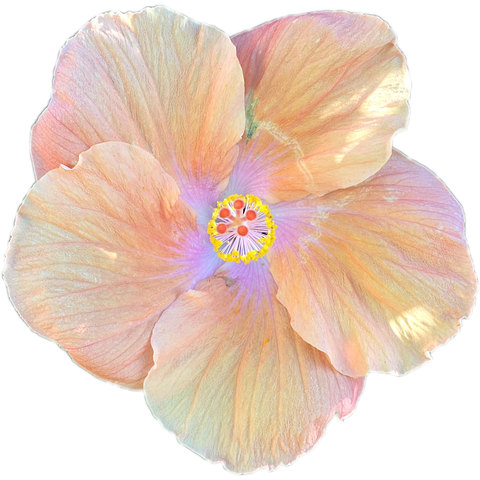Hibiscus: (1, 12, 480, 474)
